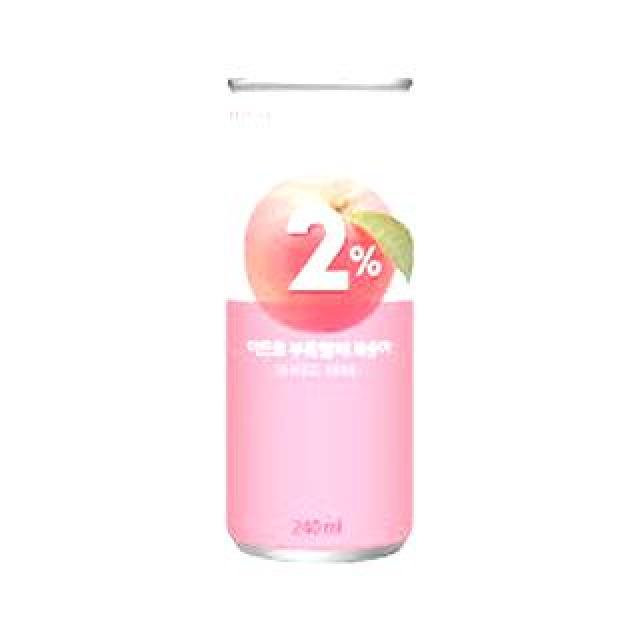Can: (207, 63, 449, 565)
